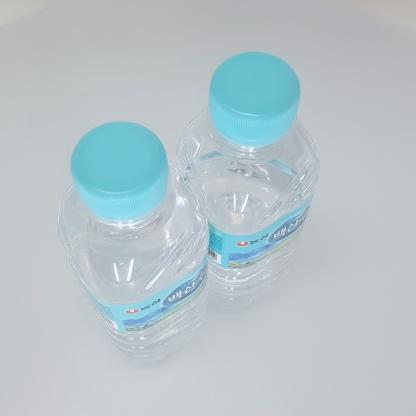-----330ML: (172, 51, 320, 309), (55, 121, 210, 364)
